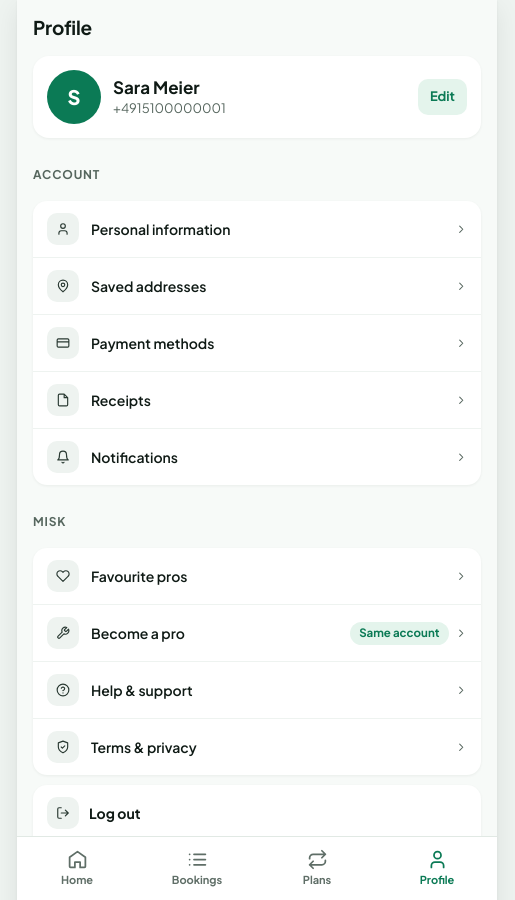
Profile › opens Personal information from Edit and each section from its row
This screenshot has width=515, height=900.
Click the link with aria-label "Edit personal information" at (442, 96), box [418, 78, 467, 114]
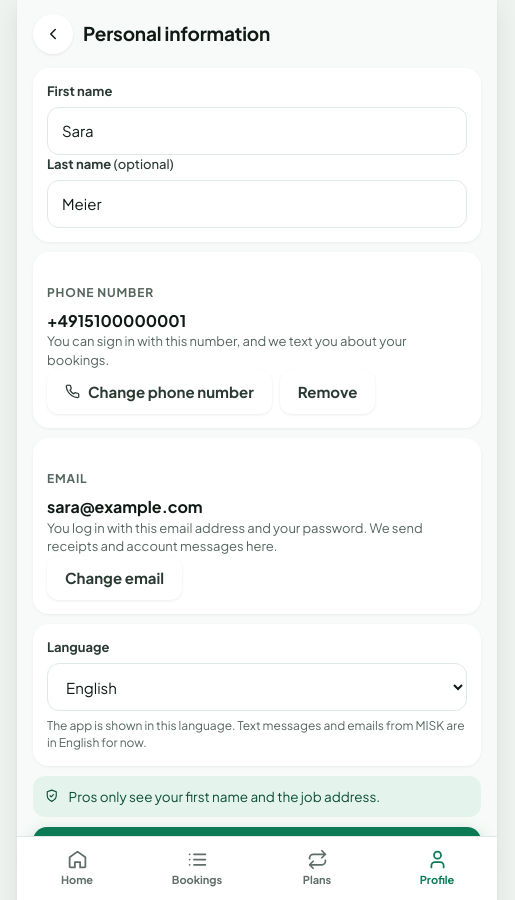
expect the heading "Personal information" is shown: met, box [83, 21, 270, 45]
Click the link named "Back" at (53, 34), box [33, 14, 73, 54]
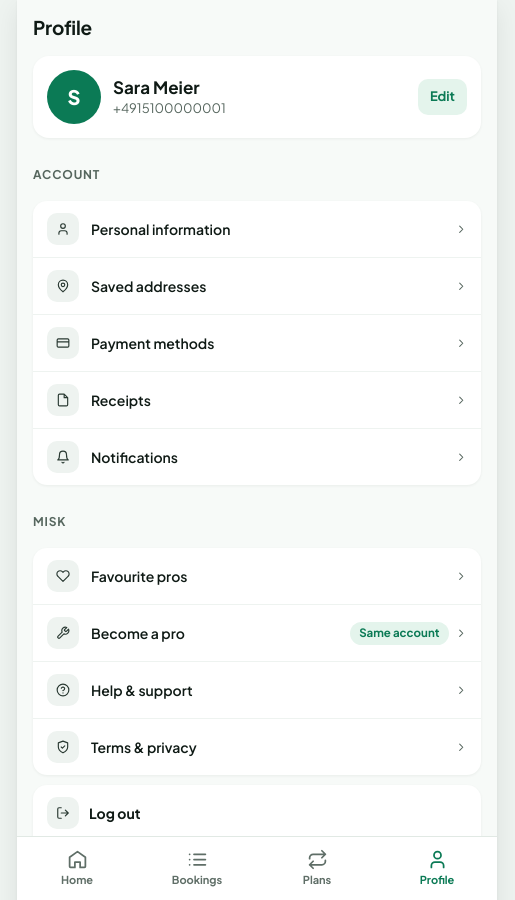
Click the link "Help & support" at (63, 690), box [47, 674, 467, 706]
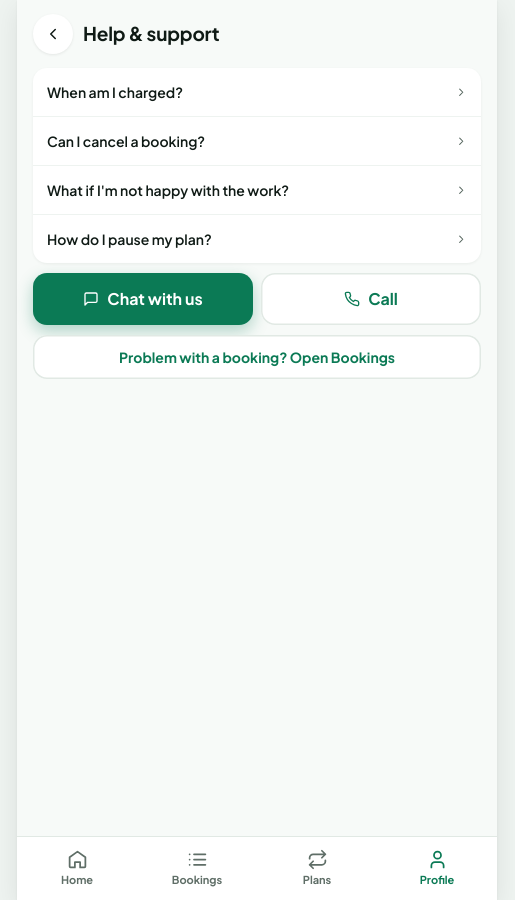
expect the heading "Help & support" is shown: met, box [83, 21, 220, 45]
